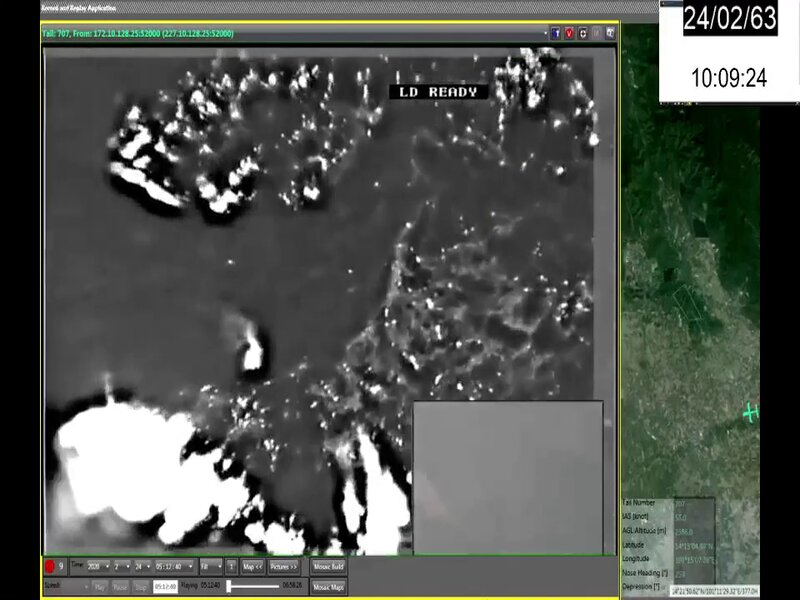Fire: (55, 395, 409, 554)
